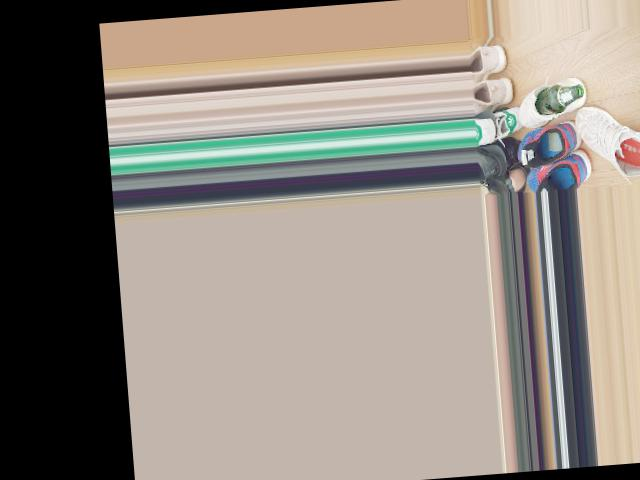beer: (534, 82, 585, 115)
